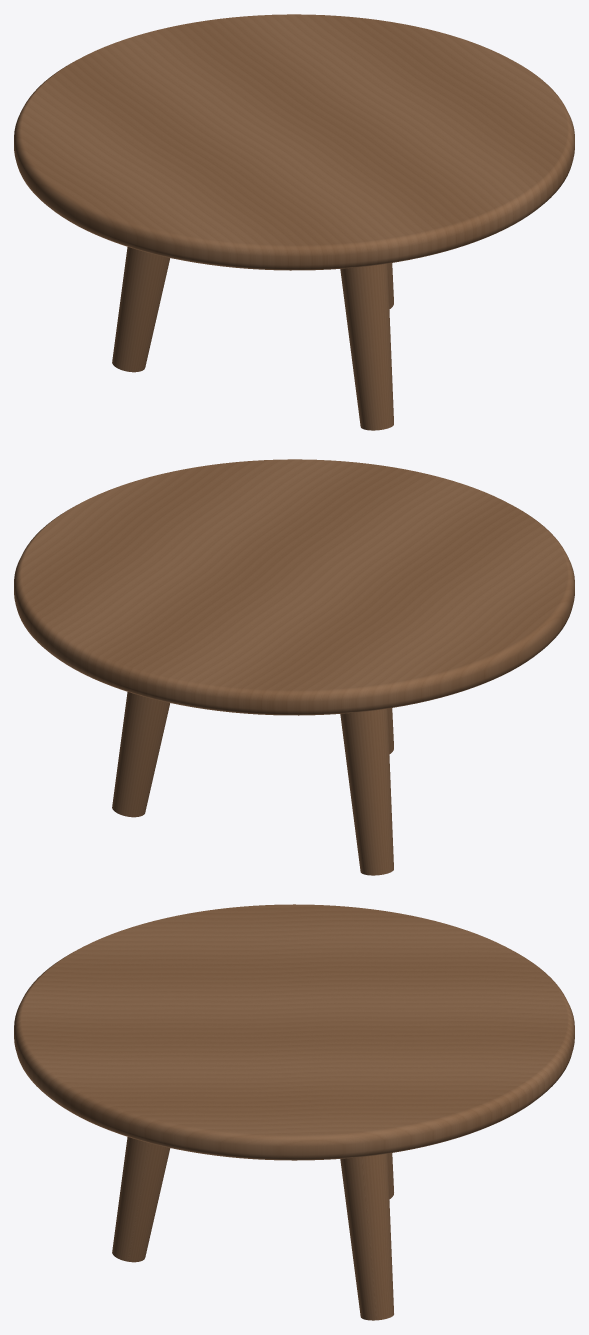
The model's file is table_walnut_high.glb.
3 renders of one model, top to bottom at view 1: azimuth 30°, elevation 25°; view 2: azimuth 150°, elevation 25°; view 3: azimuth 270°, elevation 25°, orthographic.
Visible parts, largest first — view 1: rounded_solid_walnut_top, tapered_splayed_leg_3, tapered_splayed_leg_2; view 2: rounded_solid_walnut_top, tapered_splayed_leg_2, tapered_splayed_leg_1; view 3: rounded_solid_walnut_top, tapered_splayed_leg_1, tapered_splayed_leg_3.
Part boxes in pixels (x1,y1,x2,y2): rounded_solid_walnut_top: [14, 14, 574, 270]; tapered_splayed_leg_3: [340, 263, 393, 430]; tapered_splayed_leg_2: [112, 247, 170, 372]; rounded_solid_walnut_top: [14, 459, 574, 715]; tapered_splayed_leg_2: [340, 708, 393, 875]; tapered_splayed_leg_1: [112, 692, 170, 817]; rounded_solid_walnut_top: [14, 904, 574, 1160]; tapered_splayed_leg_1: [340, 1153, 393, 1320]; tapered_splayed_leg_3: [112, 1137, 170, 1262].
Bounding box in the file's own units: 0.9 × 0.42 × 0.9.
Materials: 1 (1 with a texture image).
